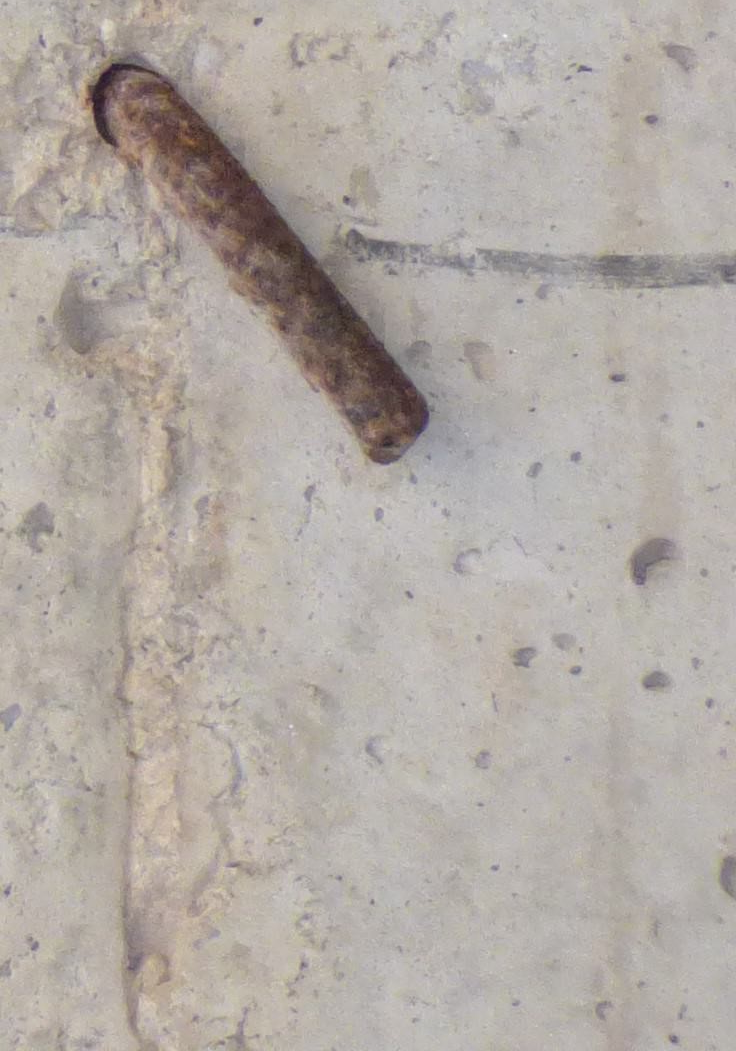Exposed reinforcement: (100, 66, 431, 466)
